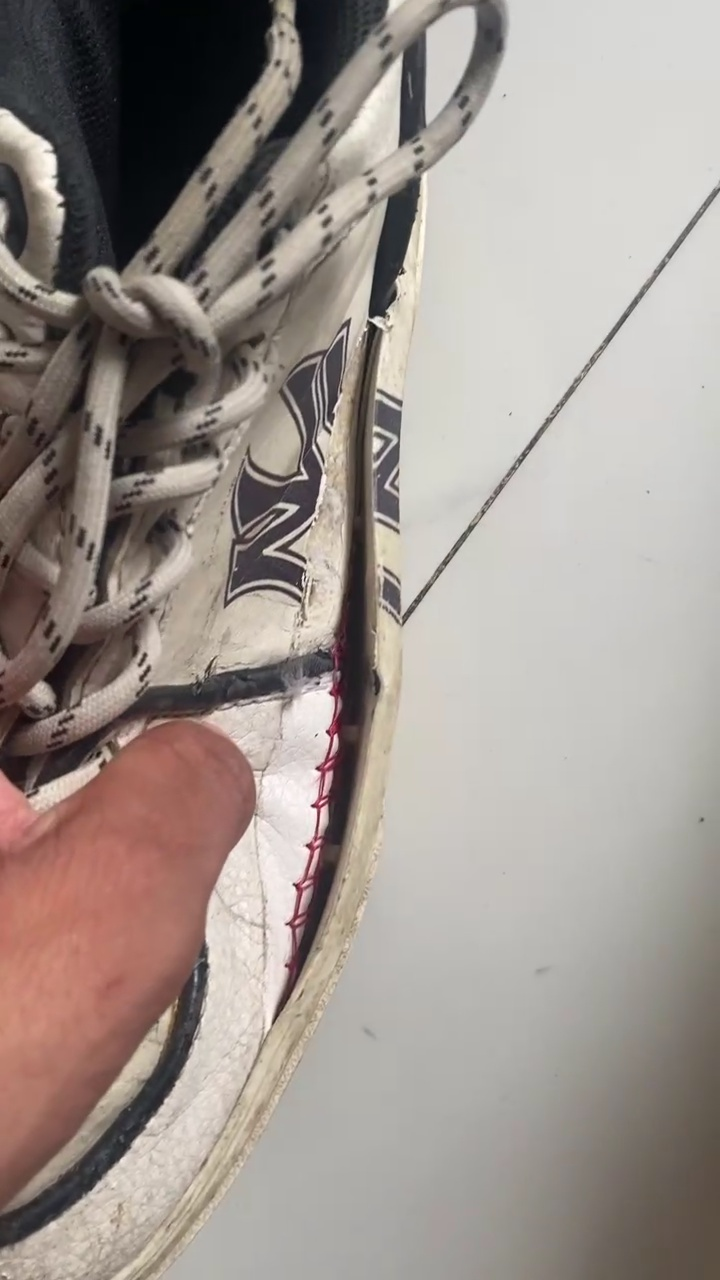bonding: (250, 708, 380, 999), (304, 381, 397, 703)
